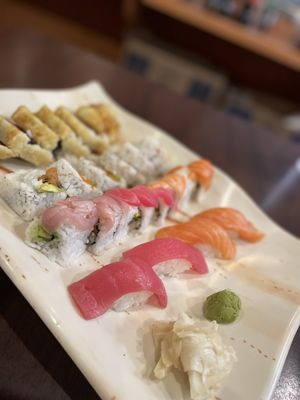curry: (1, 5, 300, 400)
sandwich: (0, 95, 298, 399)
